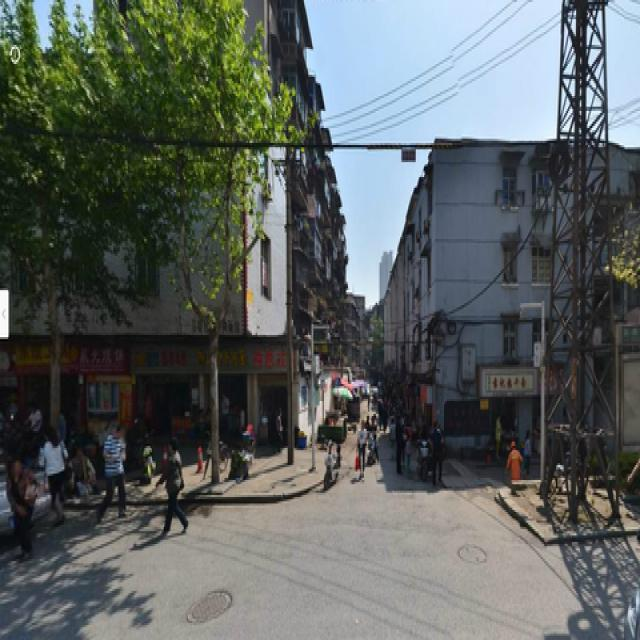meta: (67, 21, 252, 474)
